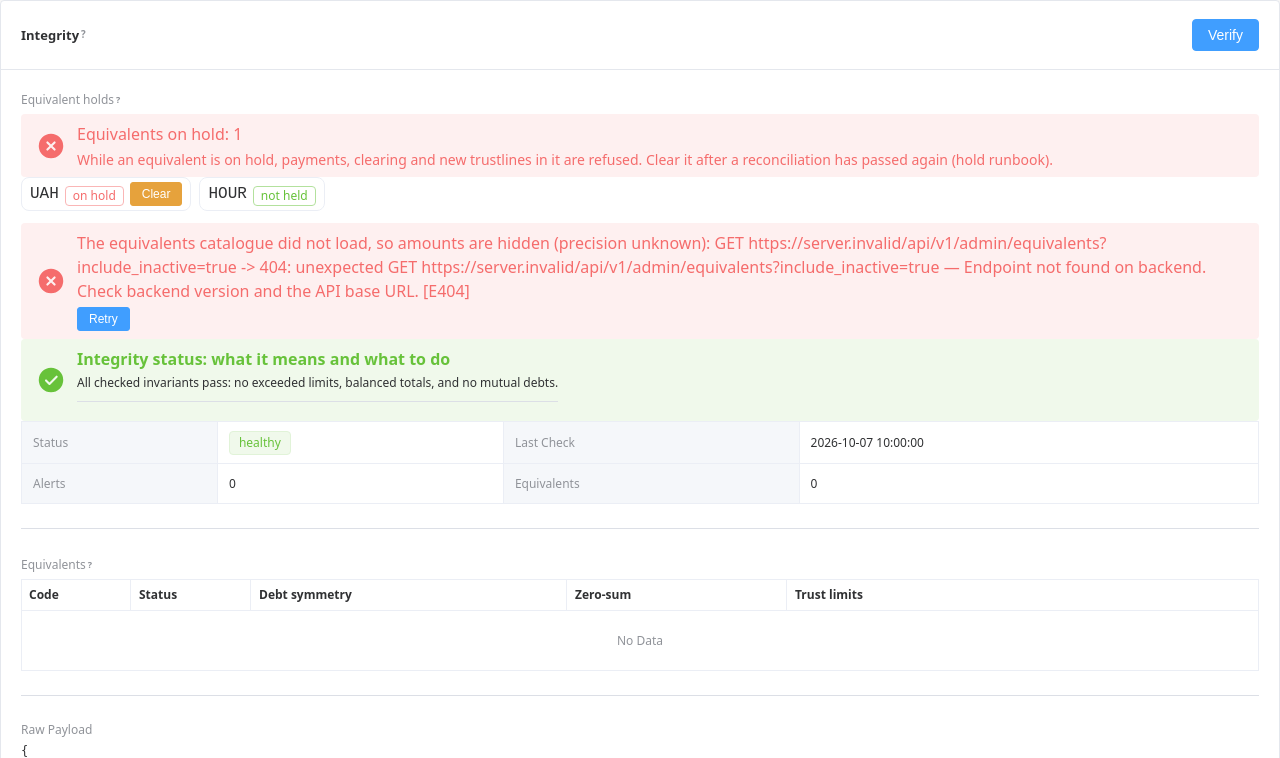
Scenario: Integrity screen: equivalent holds (032 F-4) › speaks English when the locale is English
Click the button "Clear" at (156, 194), box [130,182,182,206]
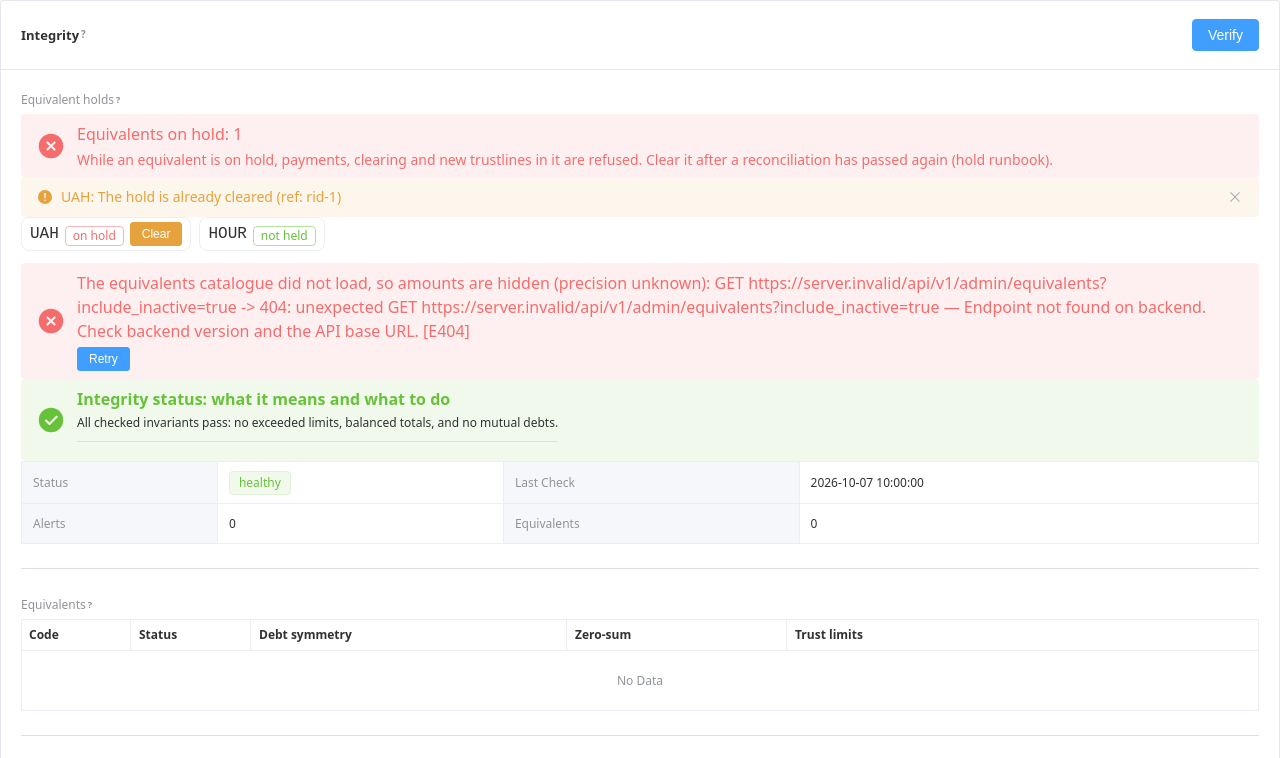
Check: the element with test id "integrity-hold-refusal" shows "The hold is already cleared", box [61,187,341,206]
